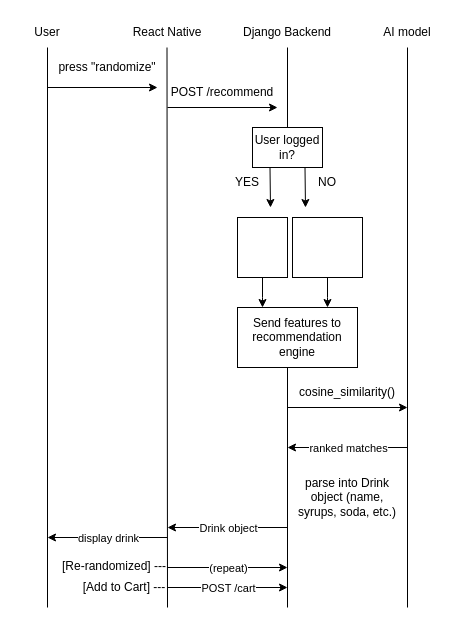
Some shapes in this 474 by 626 pixel diagram are drawn without their labels. Here are the shapes that lost their labels. From the top down, the centre of each, then its label:
pixel 262 247: fetch user prefs
pixel 327 247: fetch top 3-5rated drinks
